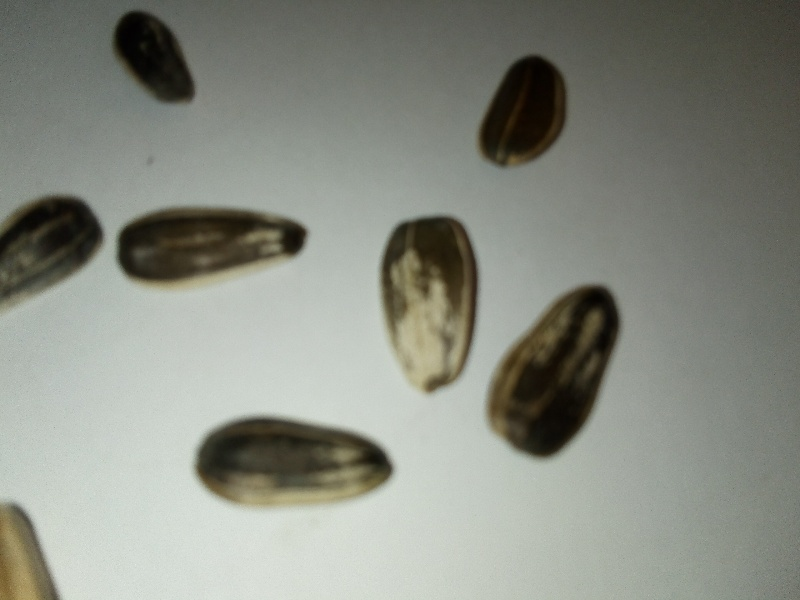girasol: (497, 274, 628, 472), (183, 406, 402, 519), (363, 208, 485, 404), (110, 197, 322, 297)
